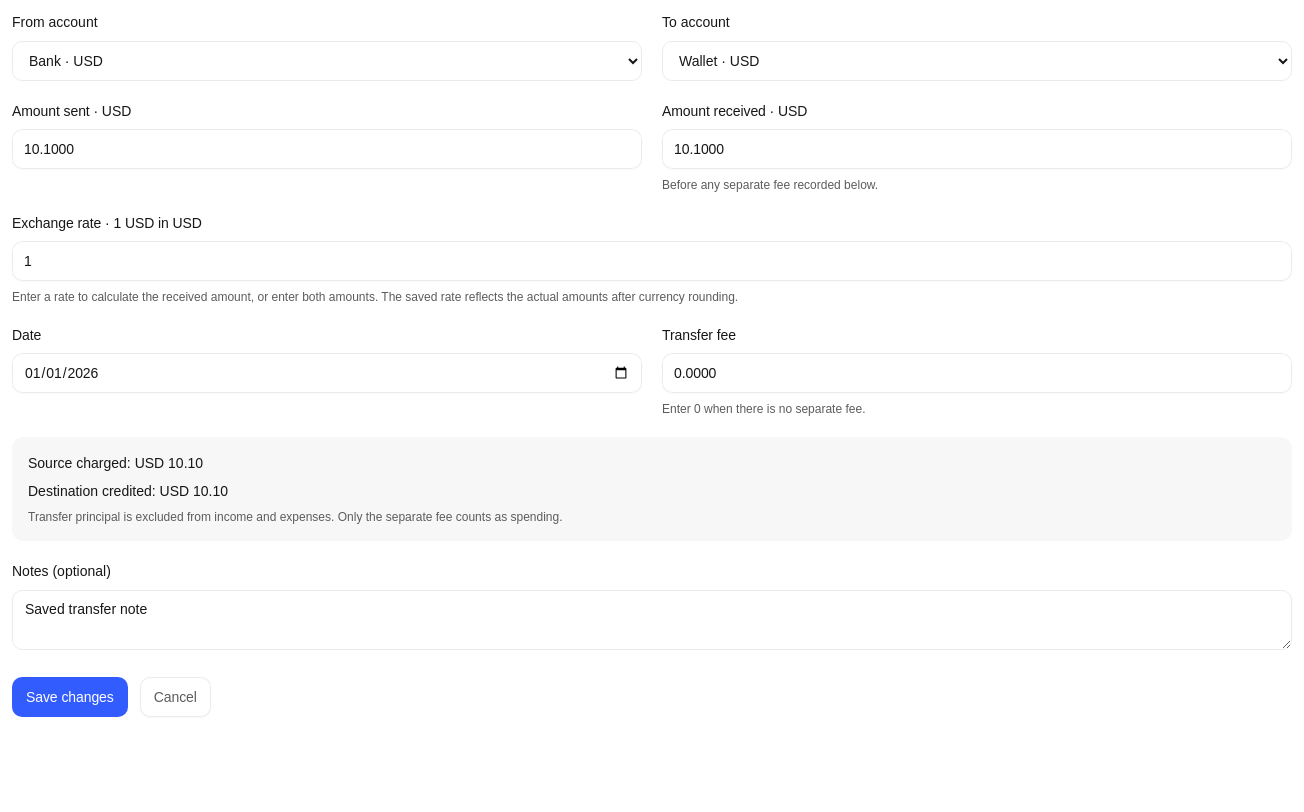
it: same-currency entry copies principal amounts and fixes the rate at one
Expected: the field labelled "Exchange rate · 1 USD in USD" holds "1", left=24, top=241, right=1280, bottom=281
Replace the text in the field labelled "Amount sent · USD" with "12.25" at coordinates (327, 149), box left=24, top=129, right=630, bottom=169
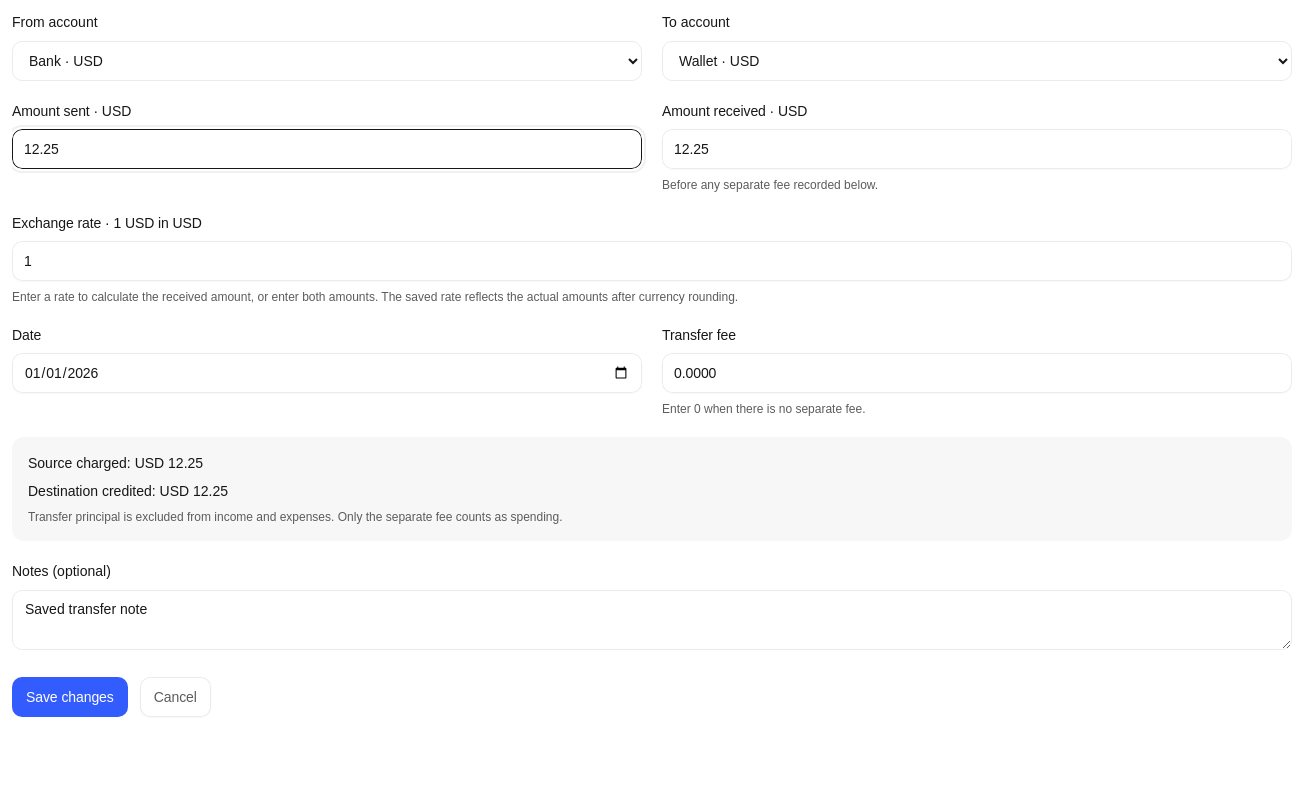
Result: the field labelled "Amount received · USD" holds "12.25" at left=674, top=129, right=1280, bottom=169
